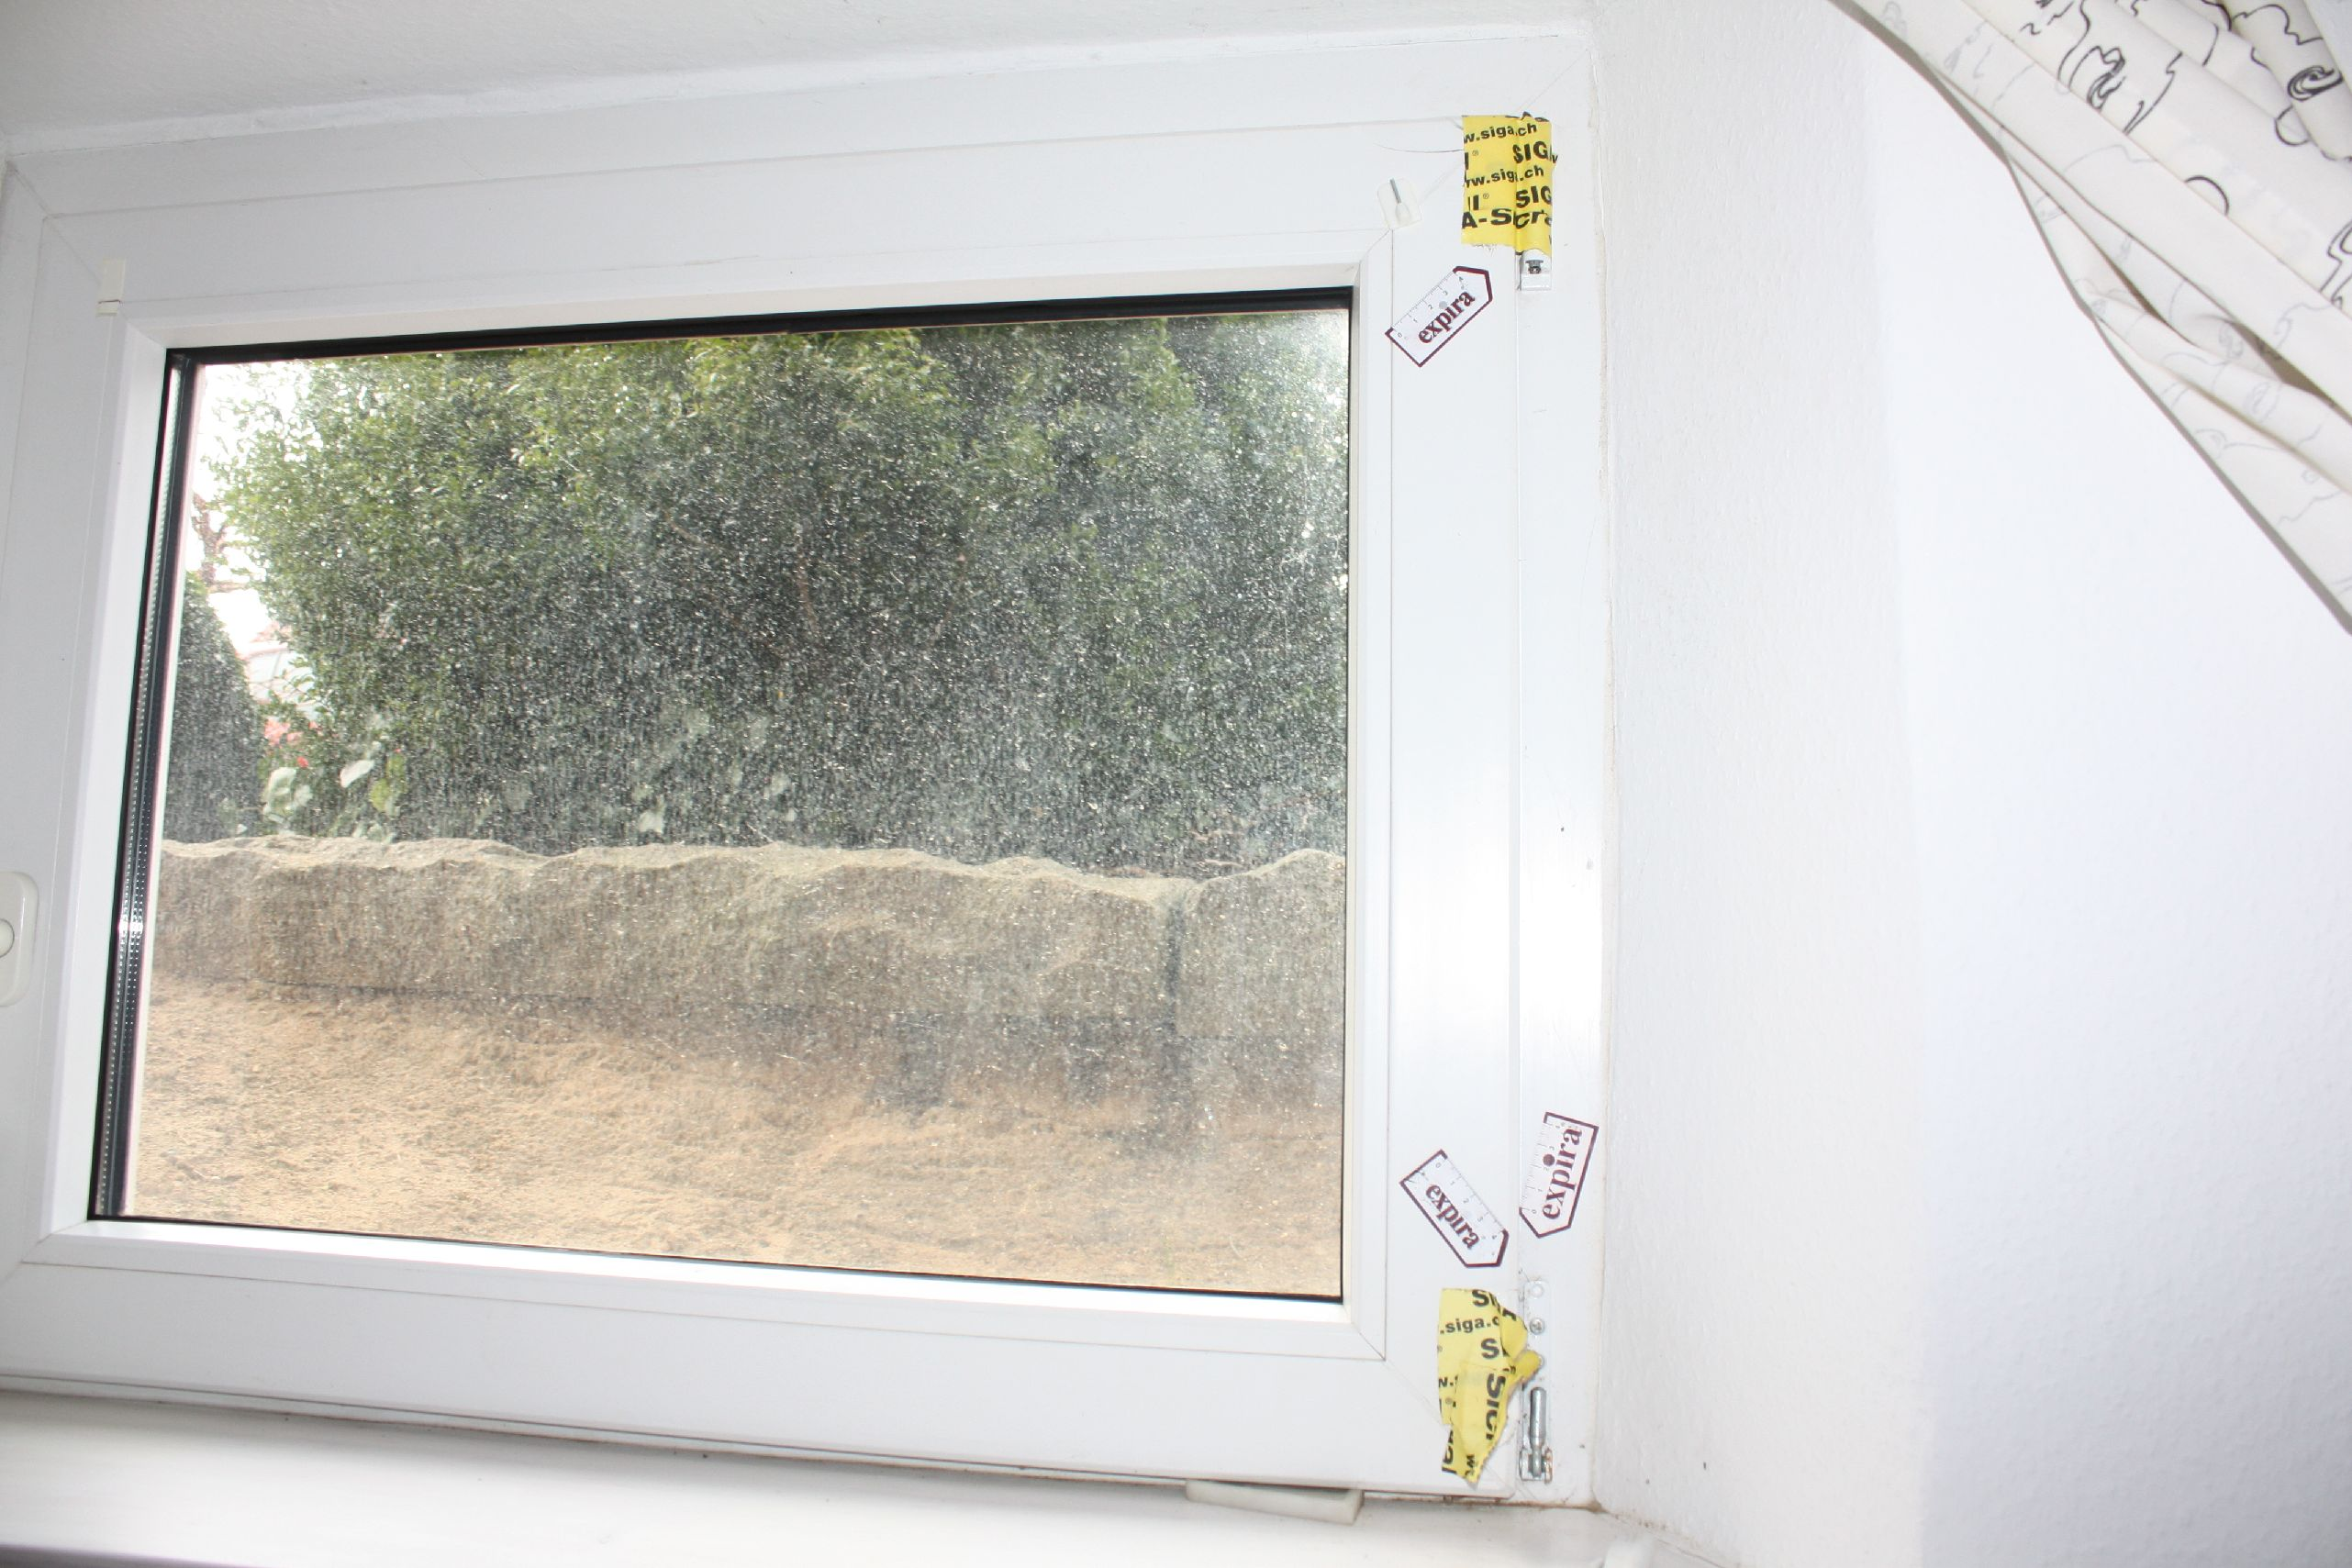windows: (86, 259, 1596, 1537)
